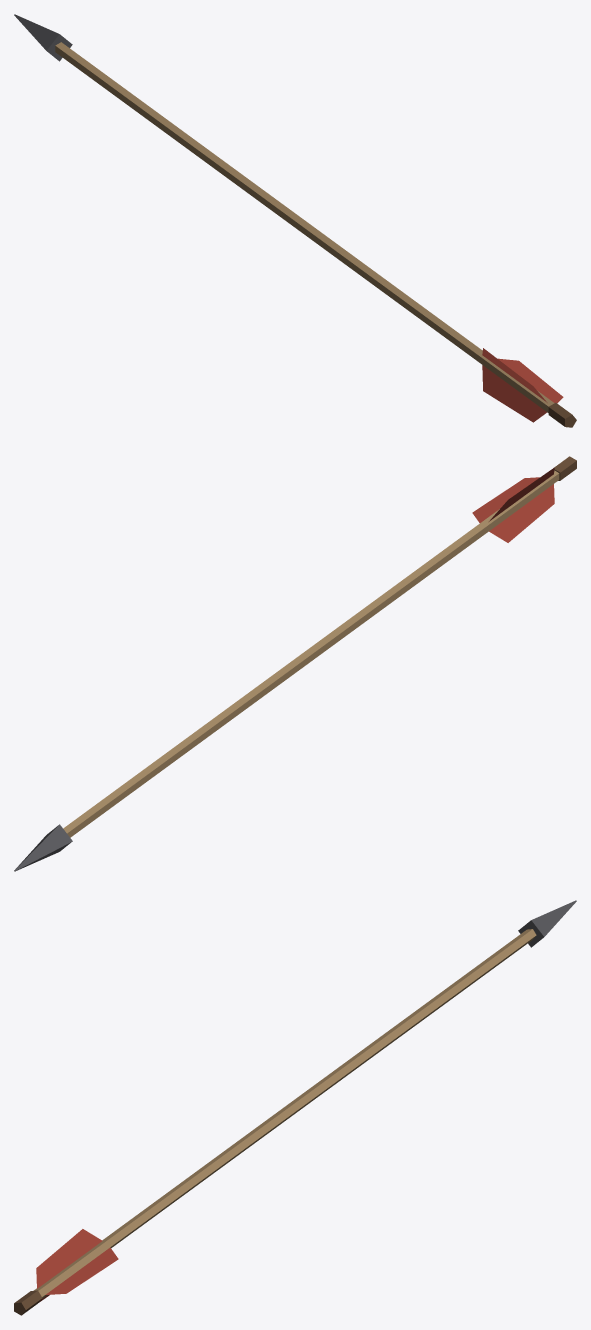
The model's file is SkeletonArrow.fbx.
3 views of the same model, one above another, from view 1: azimuth 30°, elevation 25°; view 2: azimuth 150°, elevation 25°; view 3: azimuth 330°, elevation 25° (orthographic).
Visible parts, largest first — view 1: SkeletonArrow; view 2: SkeletonArrow; view 3: SkeletonArrow.
Boxes of the visible parts, x1,y1,x2,y2 form: SkeletonArrow: [14, 14, 576, 427]; SkeletonArrow: [14, 456, 576, 871]; SkeletonArrow: [14, 900, 576, 1315].
Size of the model in its own units: 3.1 by 3.46 by 80.4.
